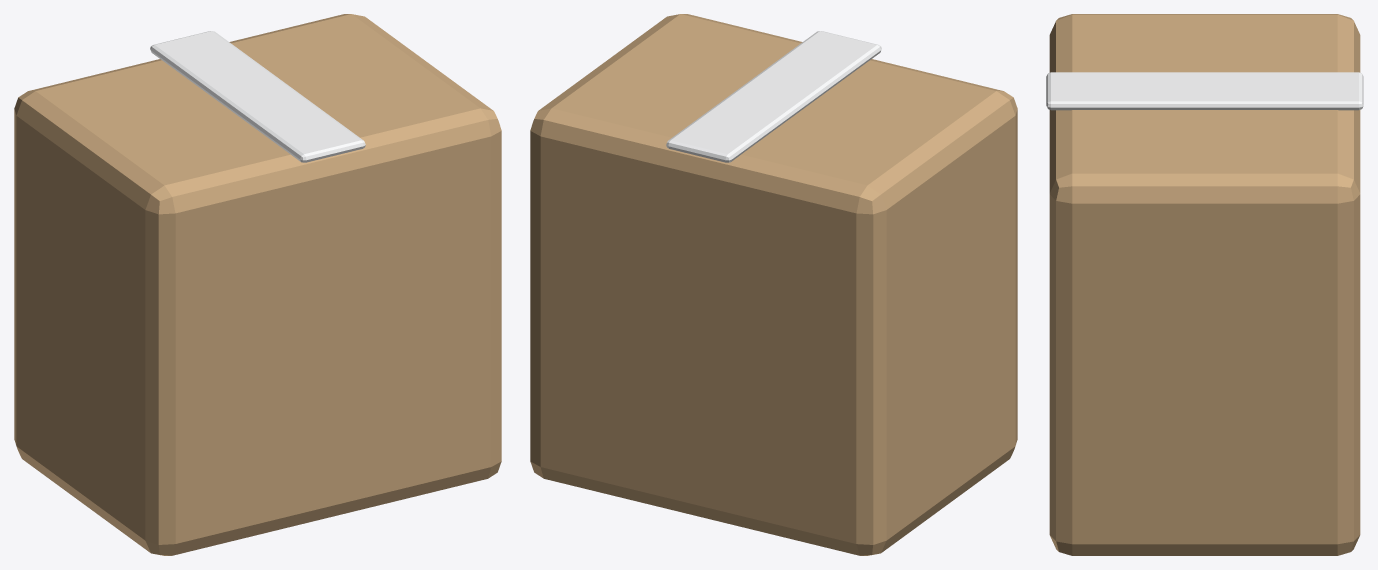
3 renders of one model, left to right at view 1: azimuth 30°, elevation 25°; view 2: azimuth 150°, elevation 25°; view 3: azimuth 270°, elevation 25°, orthographic. The views are drawn at different scales.
Visible parts, largest first — view 1: Carton, Tape; view 2: Carton, Tape; view 3: Carton, Tape.
Part boxes in pixels (x1=…): Carton: x1=14, y1=14, x2=501, y2=555; Tape: x1=150, y1=31, x2=365, y2=162; Carton: x1=530, y1=14, x2=1017, y2=555; Tape: x1=666, y1=31, x2=881, y2=162; Carton: x1=1049, y1=14, x2=1360, y2=555; Tape: x1=1046, y1=72, x2=1363, y2=110.
Size of the model in its own units: 0.65 by 0.6625 by 0.49.
